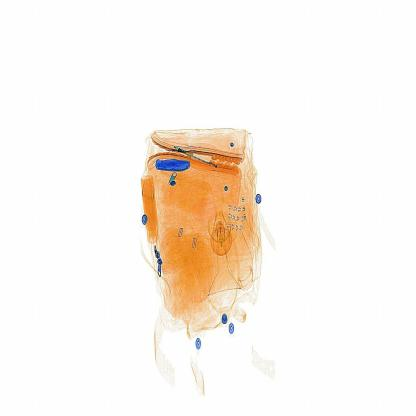knife: (153, 156, 204, 182)
